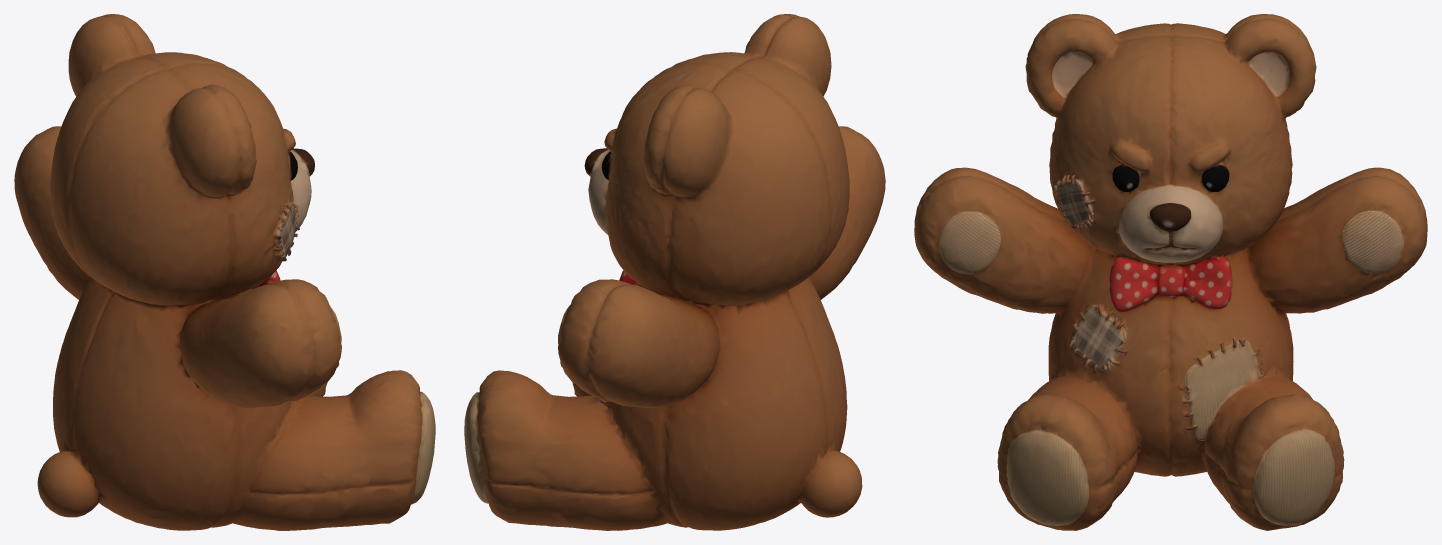
The model's file is teddy_bear.glb.
3 views of the same model, side by side, from view 1: azimuth 30°, elevation 25°; view 2: azimuth 150°, elevation 25°; view 3: azimuth 270°, elevation 25° (orthographic). The views are drawn at different scales.
Parts seen in each view (by area): view 1: tripo_node_5169e1b3-f1f3-4e1a-8a44-ba7b3d3c14fb; view 2: tripo_node_5169e1b3-f1f3-4e1a-8a44-ba7b3d3c14fb; view 3: tripo_node_5169e1b3-f1f3-4e1a-8a44-ba7b3d3c14fb.
Part boxes in pixels (x1=…): tripo_node_5169e1b3-f1f3-4e1a-8a44-ba7b3d3c14fb: x1=14, y1=14, x2=435, y2=530; tripo_node_5169e1b3-f1f3-4e1a-8a44-ba7b3d3c14fb: x1=464, y1=14, x2=885, y2=530; tripo_node_5169e1b3-f1f3-4e1a-8a44-ba7b3d3c14fb: x1=914, y1=14, x2=1427, y2=530.
Size of the model in its own units: 0.7149 by 0.9361 by 1.
Materials: 1 (1 with a texture image).
